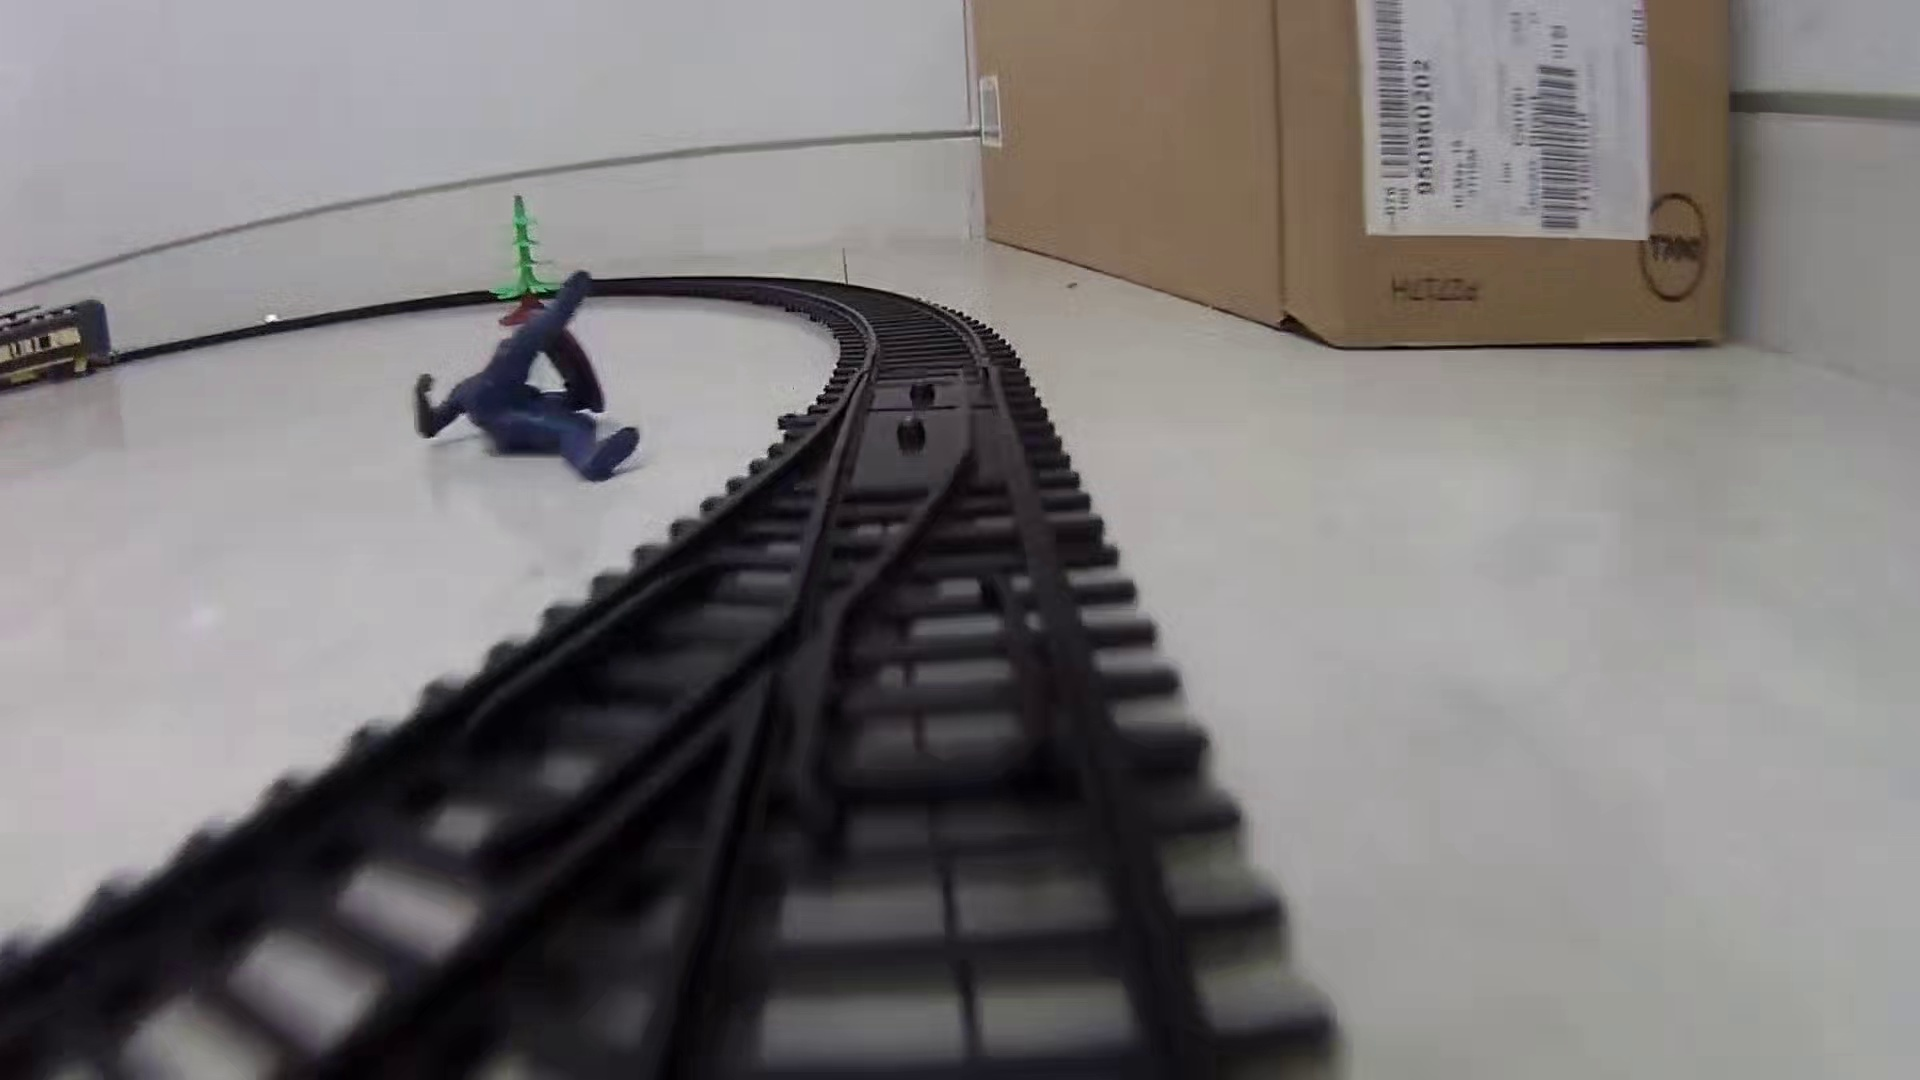people: (408, 267, 643, 483)
tree: (490, 194, 564, 325)
